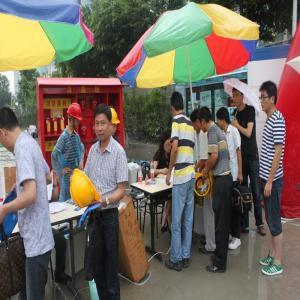none: (2, 107, 22, 154), (95, 105, 113, 145), (260, 81, 279, 114), (172, 92, 186, 117), (201, 106, 213, 132), (217, 108, 231, 130), (191, 109, 202, 133), (232, 86, 244, 108), (162, 133, 173, 154)
red: (68, 104, 84, 131)
yellow: (110, 109, 120, 138)
